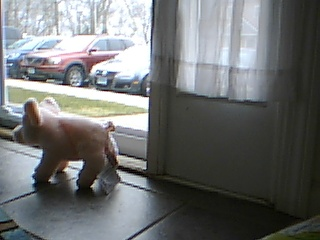piggy: (11, 95, 120, 194)
